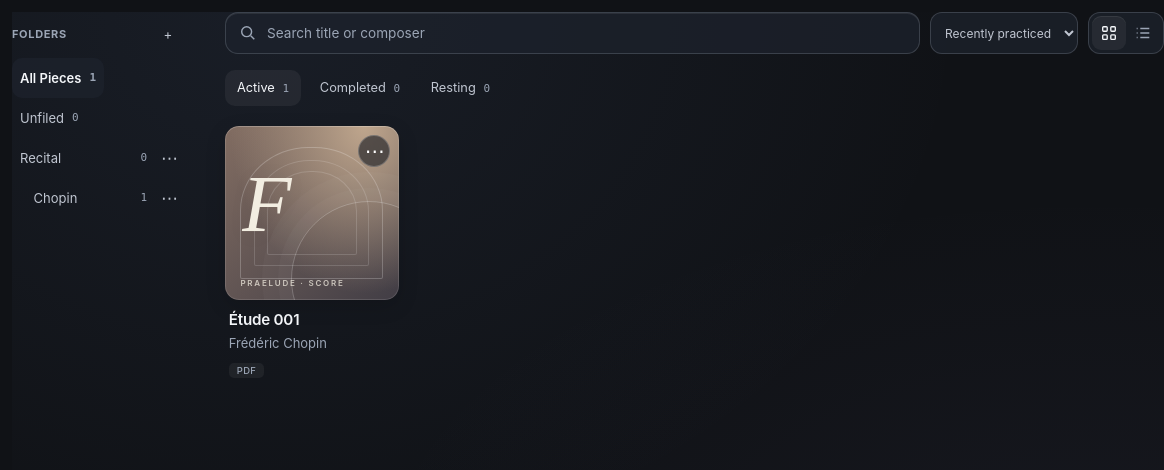
Test: independent library review › dismisses the floating menu when keyboard focus leaves it
The width and height of the screenshot is (1164, 470).
Click the button named "Actions for Étude 001". click: click(374, 151)
box: [358,135,390,167]
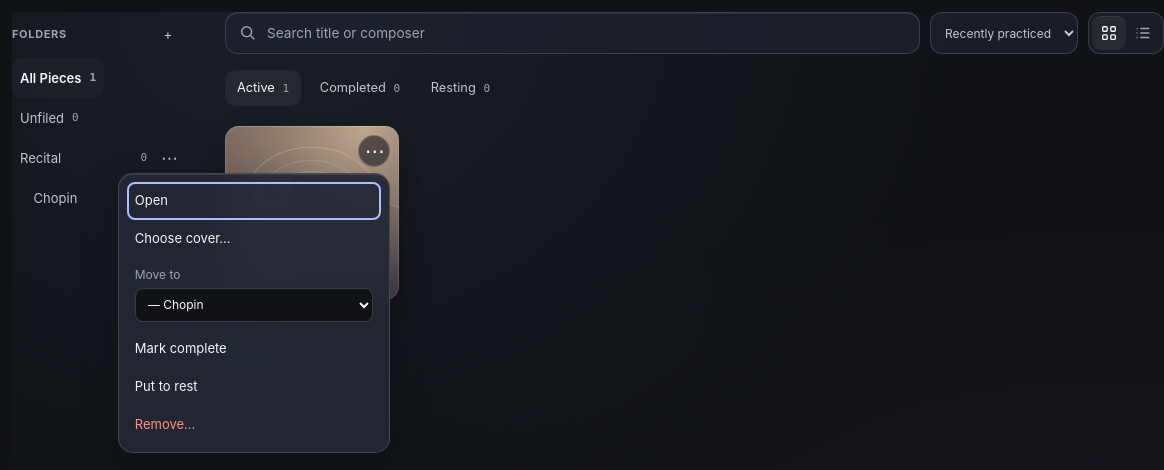
Leave the menu item "Open", box [127,182,381,220]
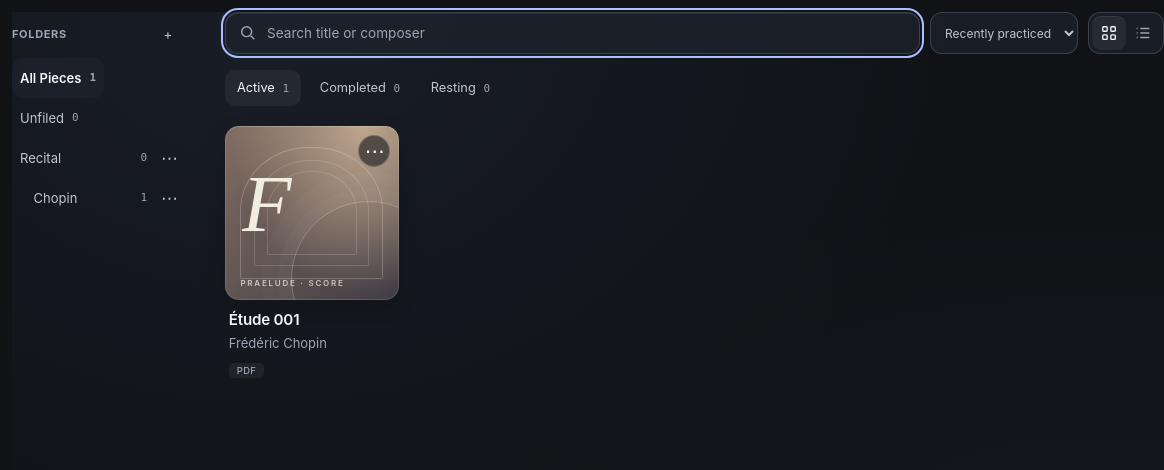
Check: the menu is gone
